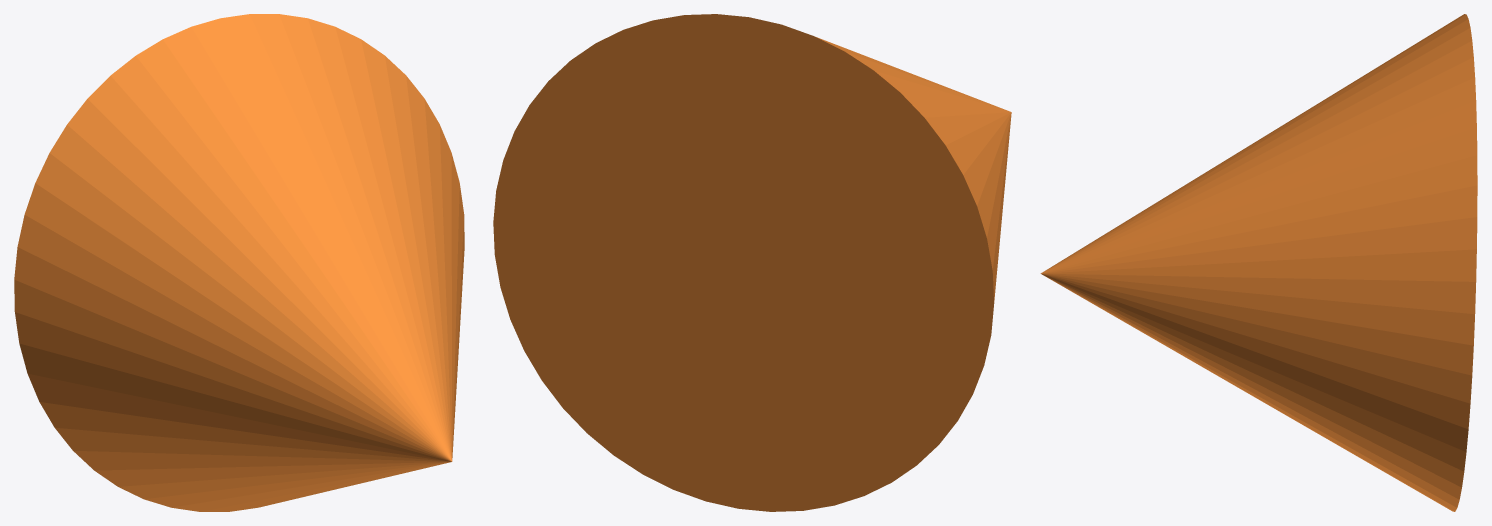
File: asteroid.glb
3 renders of one model, left to right at view 1: azimuth 30°, elevation 25°; view 2: azimuth 150°, elevation 25°; view 3: azimuth 270°, elevation 25°, orthographic. The views are drawn at different scales.
Parts seen in each view (by area): view 1: world; view 2: world; view 3: world.
Boxes of the visible parts, x1,y1,x2,y2 form: world: (14,14,464,511); world: (493,14,1011,511); world: (1040,14,1477,511).
Bounding box in the file's own units: 1.52 × 1.52 × 1.39.
